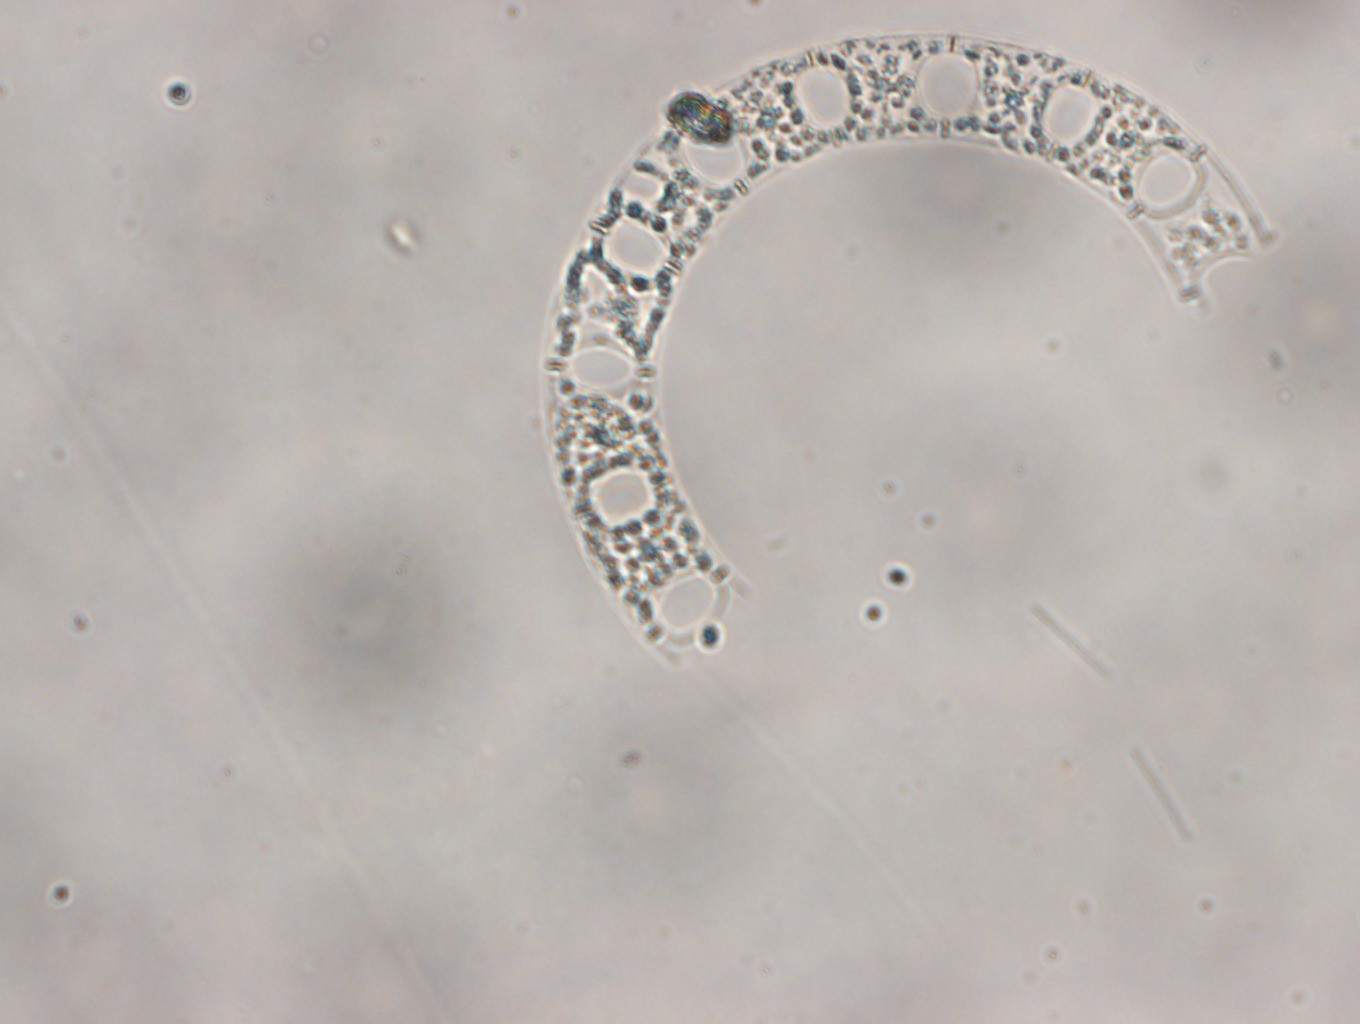eucampia: (538, 31, 1270, 667)
